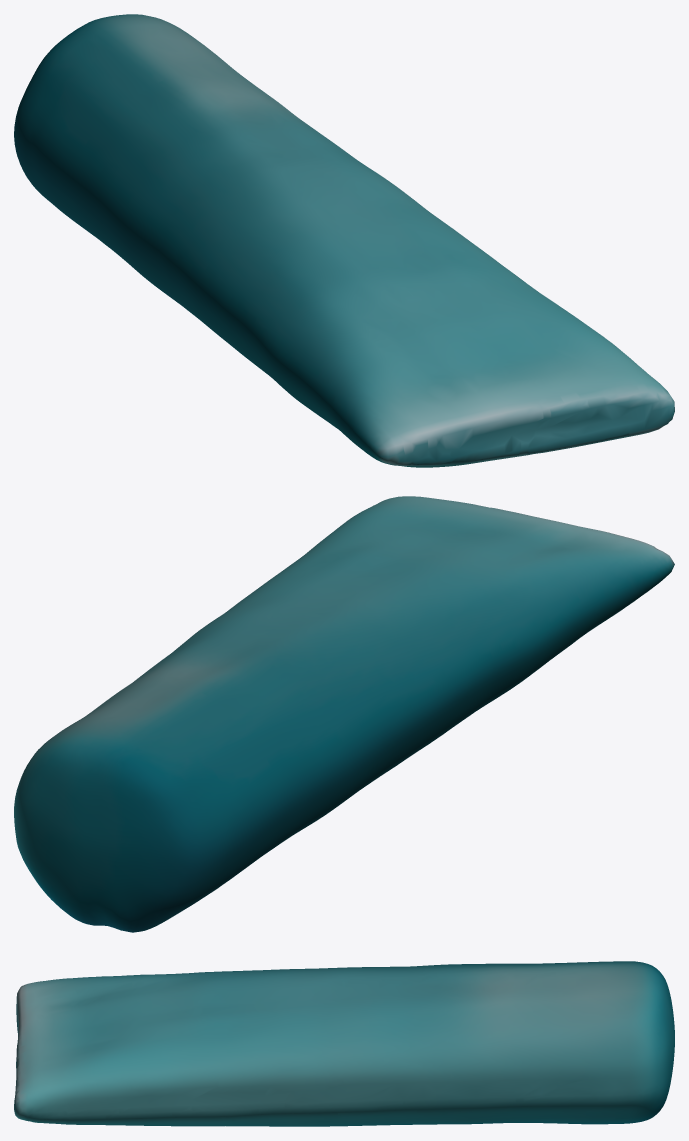
File: oil.glb
The picture shows the model from 3 angles, top to bottom: view 1: azimuth 30°, elevation 25°; view 2: azimuth 150°, elevation 25°; view 3: azimuth 270°, elevation 25°; orthographic projection. The views are drawn at different scales.
Bounding box in the file's own units: 0.3847 × 0.2434 × 0.9995.
